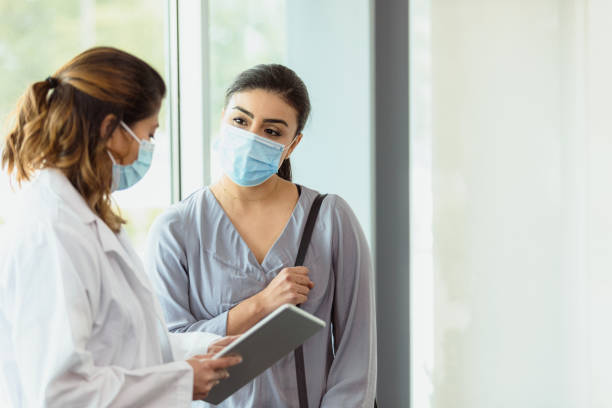with mask: (41, 44, 159, 195), (211, 58, 302, 192)
